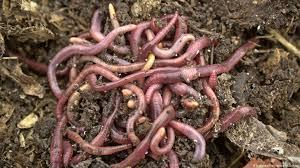Insects: (51, 63, 144, 147), (47, 21, 139, 98), (142, 36, 262, 95), (109, 105, 174, 168), (88, 8, 129, 60), (137, 10, 180, 57), (205, 103, 259, 139), (169, 119, 206, 163), (193, 77, 220, 135), (49, 114, 68, 166), (105, 2, 127, 46)
